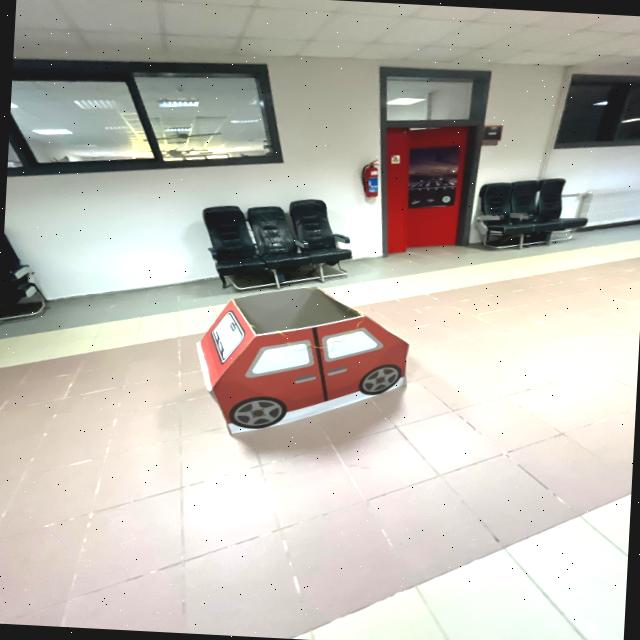red_car: (174, 278, 425, 450)
